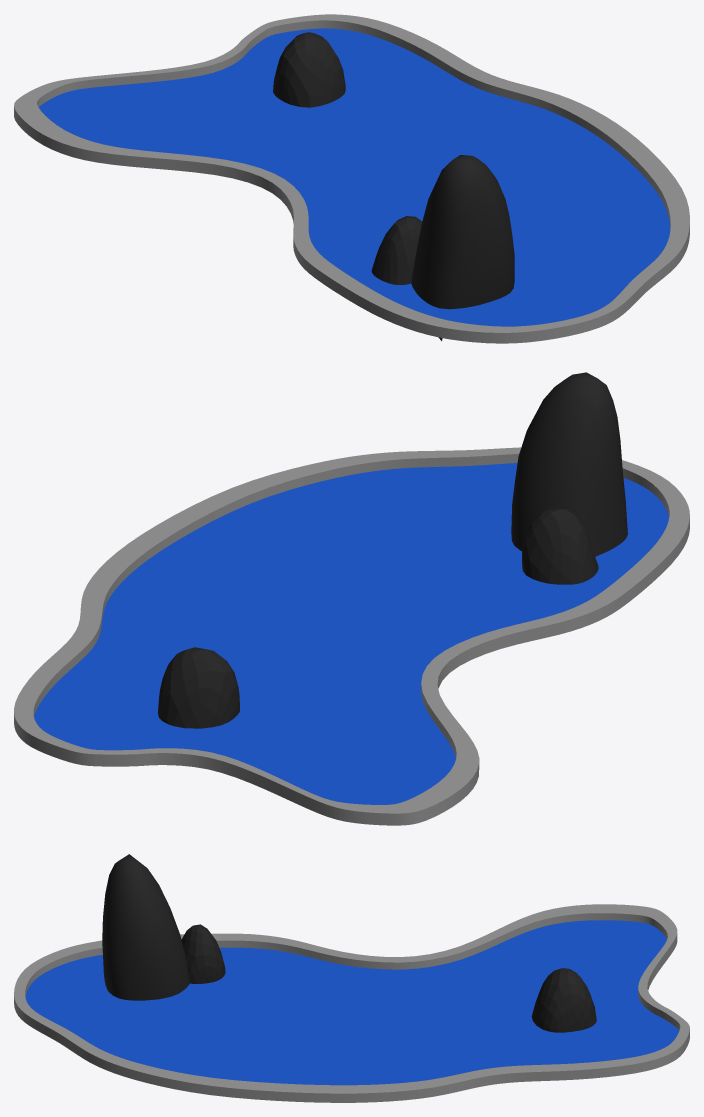
File: pond_2.FBX
3 renders of one model, top to bottom at view 1: azimuth 30°, elevation 25°; view 2: azimuth 150°, elevation 25°; view 3: azimuth 270°, elevation 25°, orthographic. The views are drawn at different scales.
Visible parts, largest first — view 1: pond_2, Plane003; view 2: pond_2, Plane003; view 3: pond_2, Plane003.
Boxes of the visible parts, x1,y1,x2,y2 form: pond_2: (38,28,670,341); Plane003: (14,14,689,343); pond_2: (34,372,668,804); Plane003: (14,447,689,825); pond_2: (25,854,679,1085); Plane003: (14,904,689,1102).
Size of the model in its own units: 26.84 by 10.44 by 40.49.
